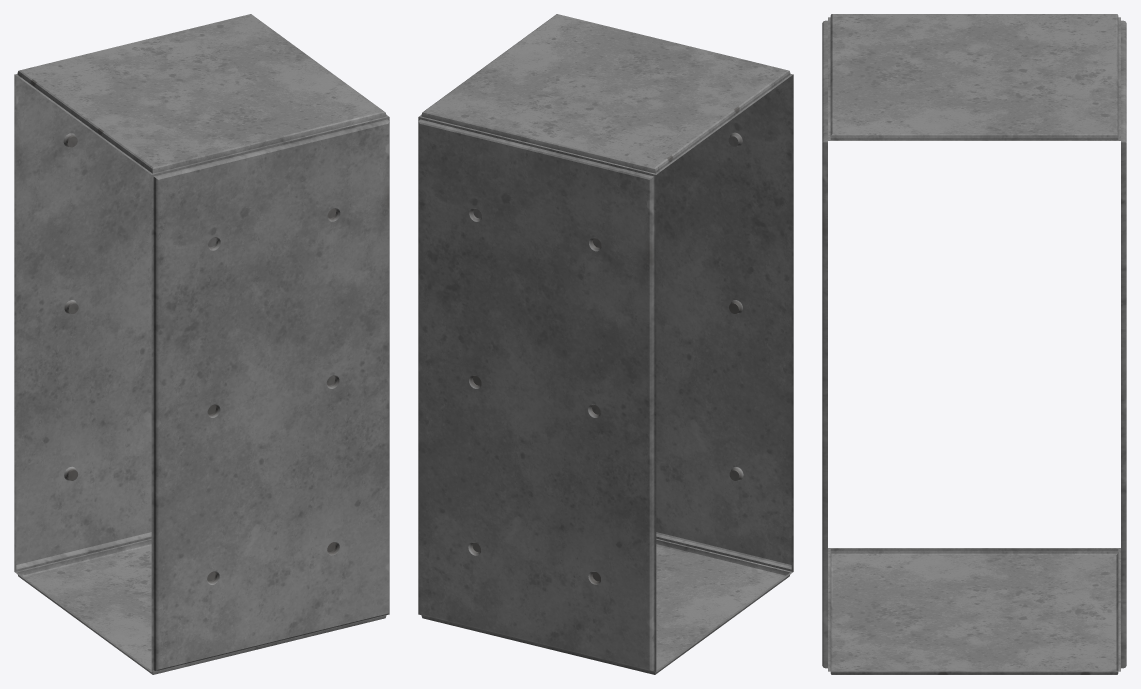
File: SM_Wall_37.fbx
The picture shows the model from 3 angles, left to right: view 1: azimuth 30°, elevation 25°; view 2: azimuth 150°, elevation 25°; view 3: azimuth 270°, elevation 25°; orthographic projection. The views are drawn at different scales.
Visible parts, largest first — view 1: SM_Wall_50; view 2: SM_Wall_50; view 3: SM_Wall_50.
Part boxes in pixels (x1,y1,x2,y2): SM_Wall_50: (14,14,389,674); SM_Wall_50: (418,14,793,674); SM_Wall_50: (822,14,1126,674).
Bounding box in the file's own units: 100 × 204 × 104.
